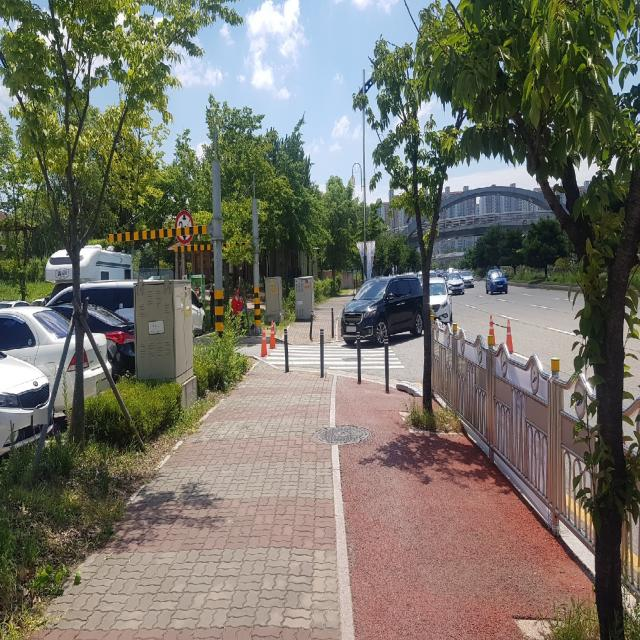횡단보도: (265, 344, 405, 369)
